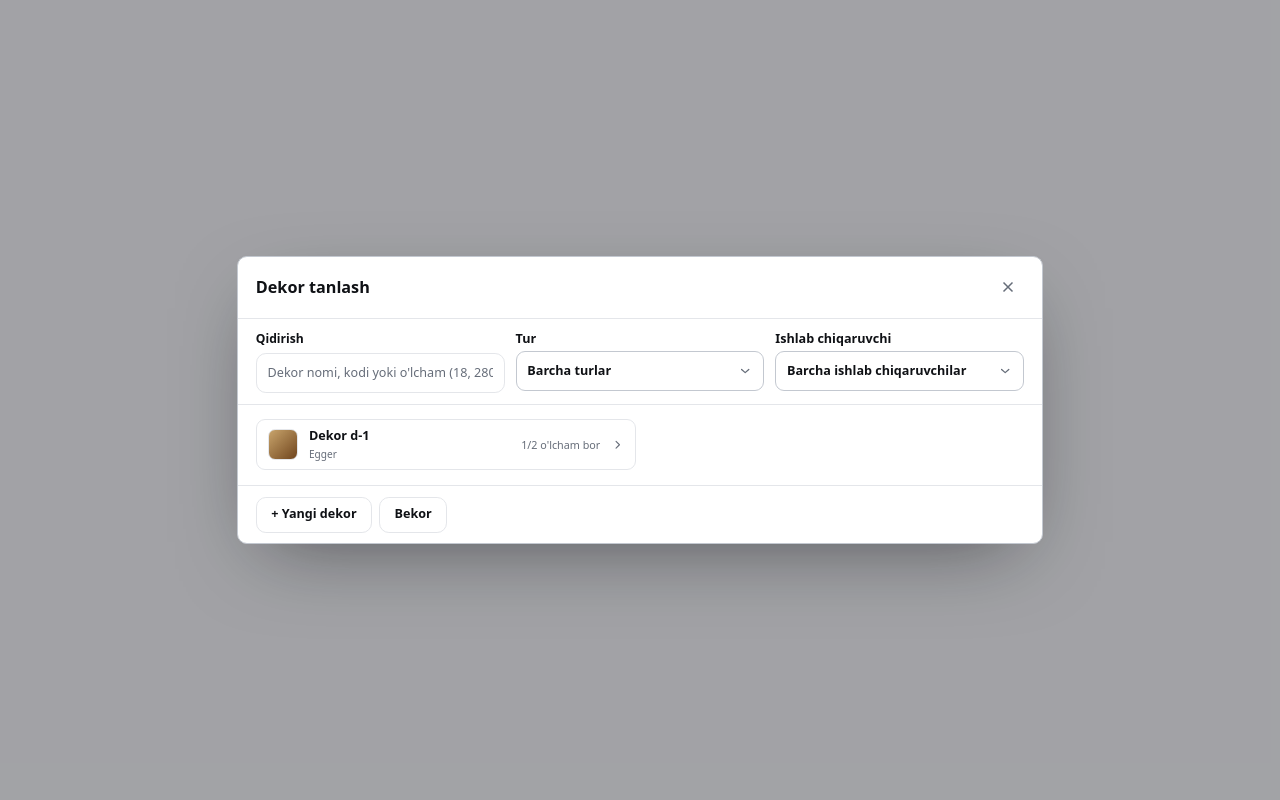
Scenario: BranchMaterialAttachSheet — one decor at a time › lists the decor’s o‘lchamlar with the carried ones disabled
The image size is (1280, 800).
Click the button "Dekor d-1 Egger 1/2 o'lcham bor" at (283, 445), box [256,419,636,470]
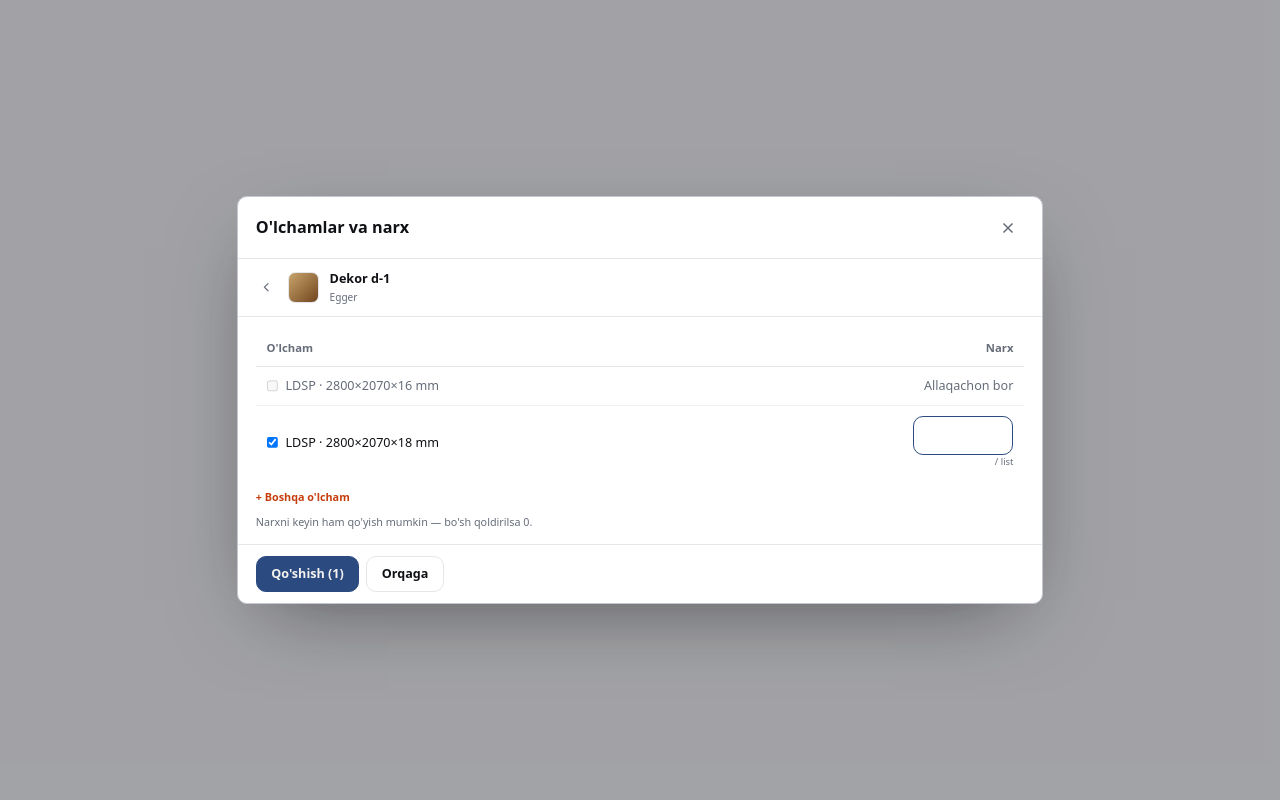
expect the number of checkboxes is 2: met, box [267,380,278,392]; [267,437,278,448]
expect the checkbox labelled "LDSP · 2800×2070×16 mm" is disabled: met, box [267,380,278,392]
expect the checkbox labelled "LDSP · 2800×2070×18 mm" is enabled: met, box [267,437,278,448]
